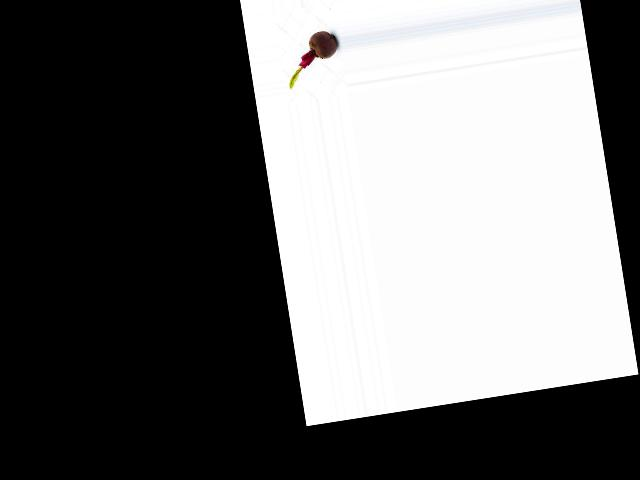beet: (282, 28, 342, 87)
